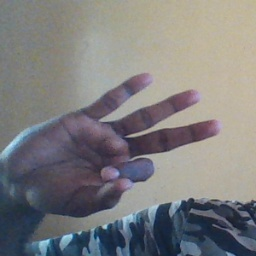K: (10, 72, 224, 217)
